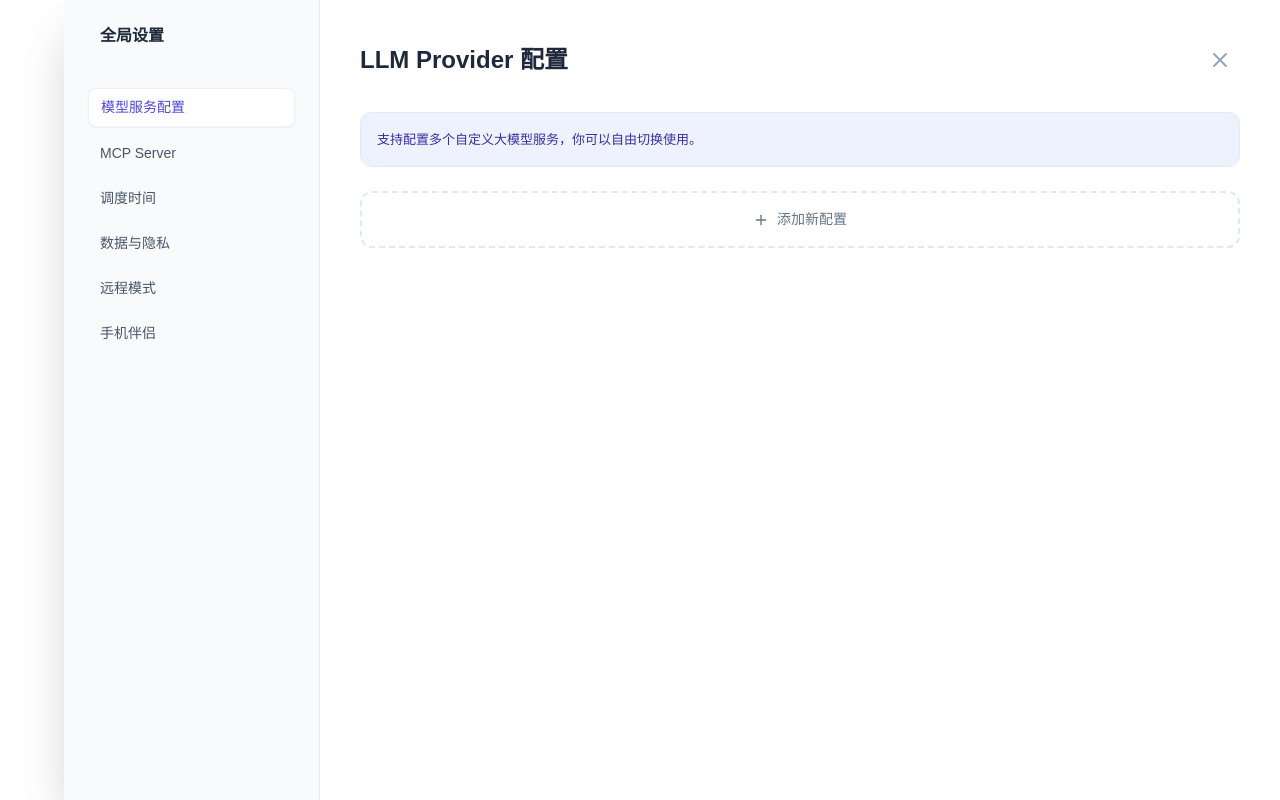
GlobalSettingsModal › 在 MCP 详情页点击右上角关闭返回 MCP 列表而不是关闭全局设置
Click the button "MCP Server": (192, 154) [88, 135, 295, 172]
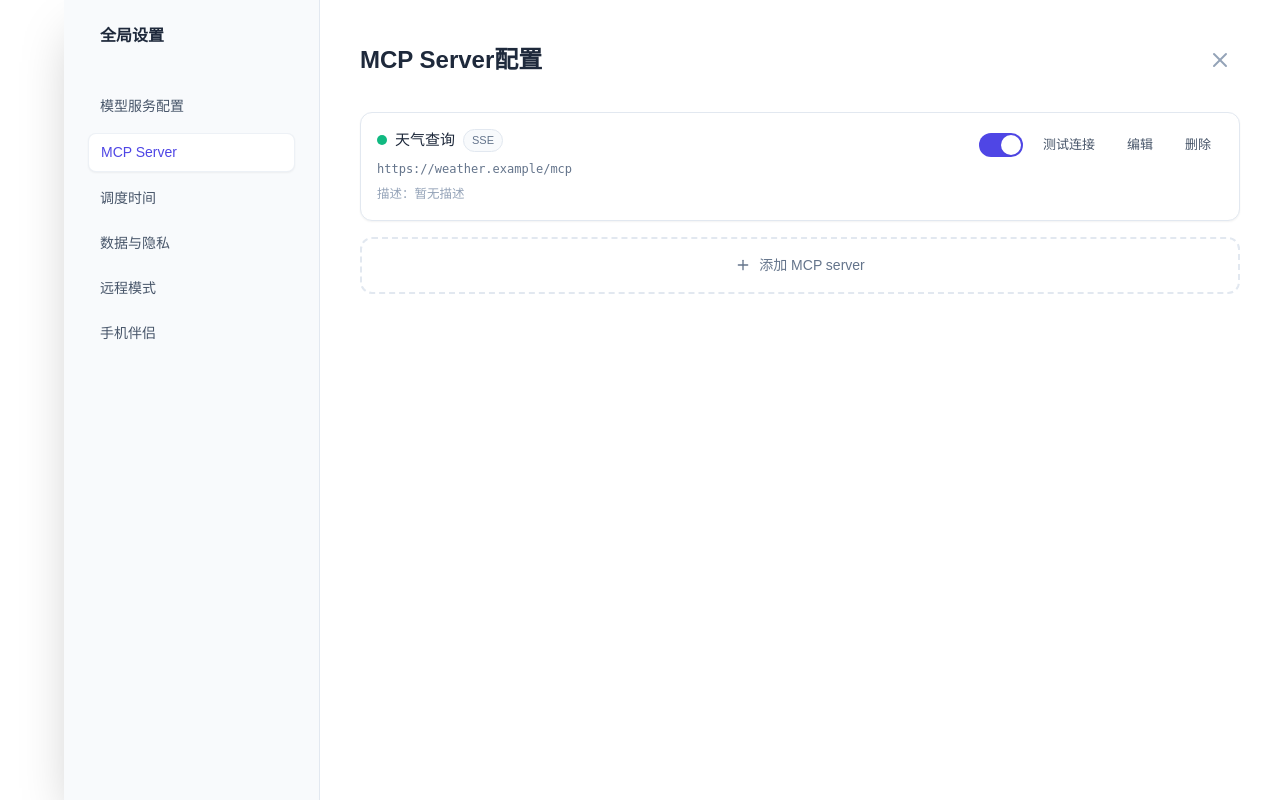
Click the button "编辑": (1140, 145) [1115, 129, 1165, 160]
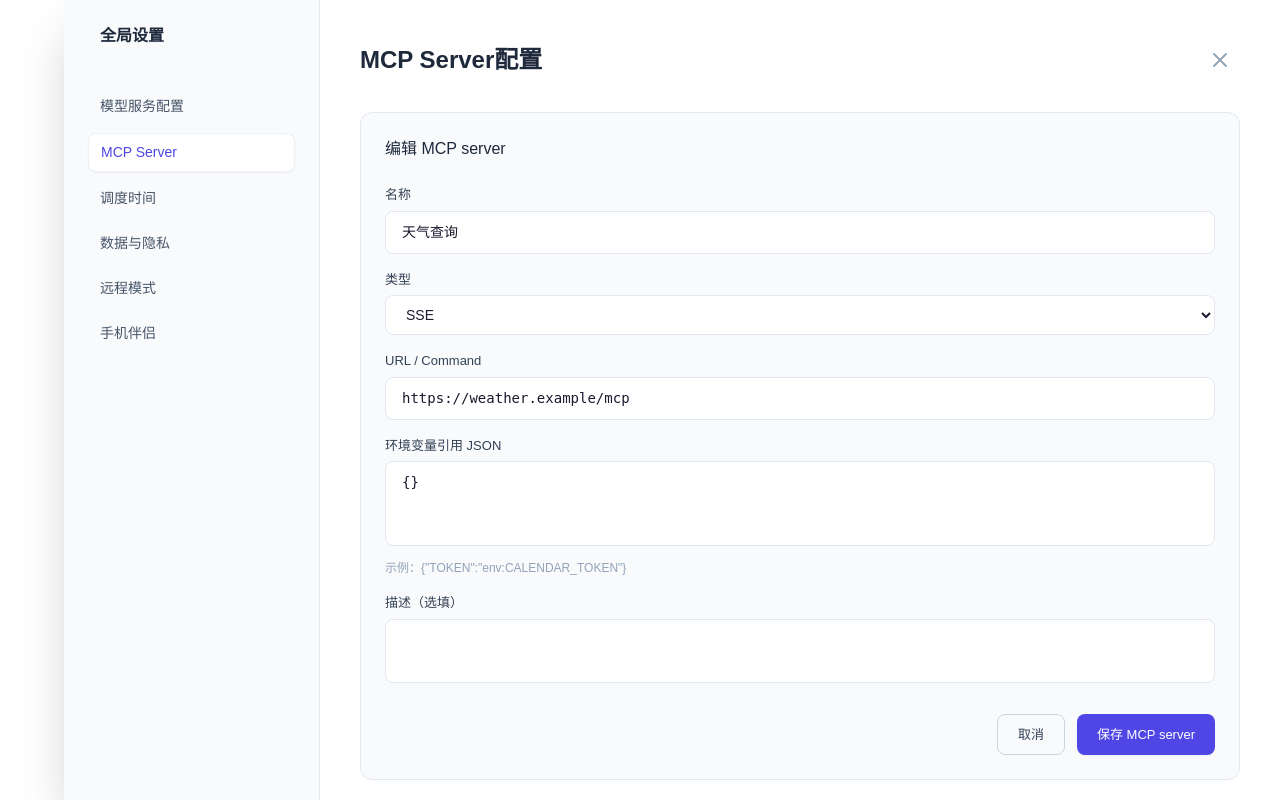
Click the button named "返回 MCP 工具列表": (1220, 60) [1200, 40, 1240, 80]
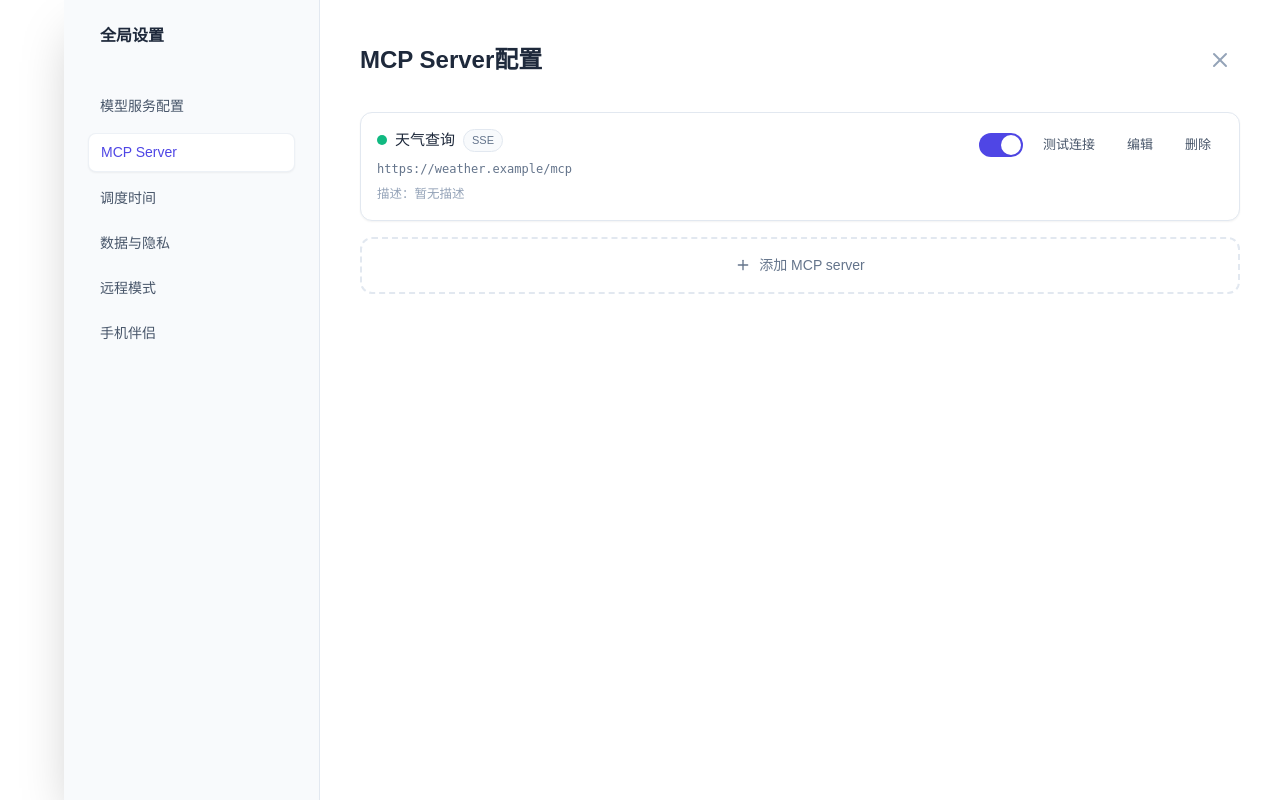
expect the text "天气查询" is shown: met, box [395, 129, 455, 152]
expect the heading "编辑 MCP server" is gone: met
